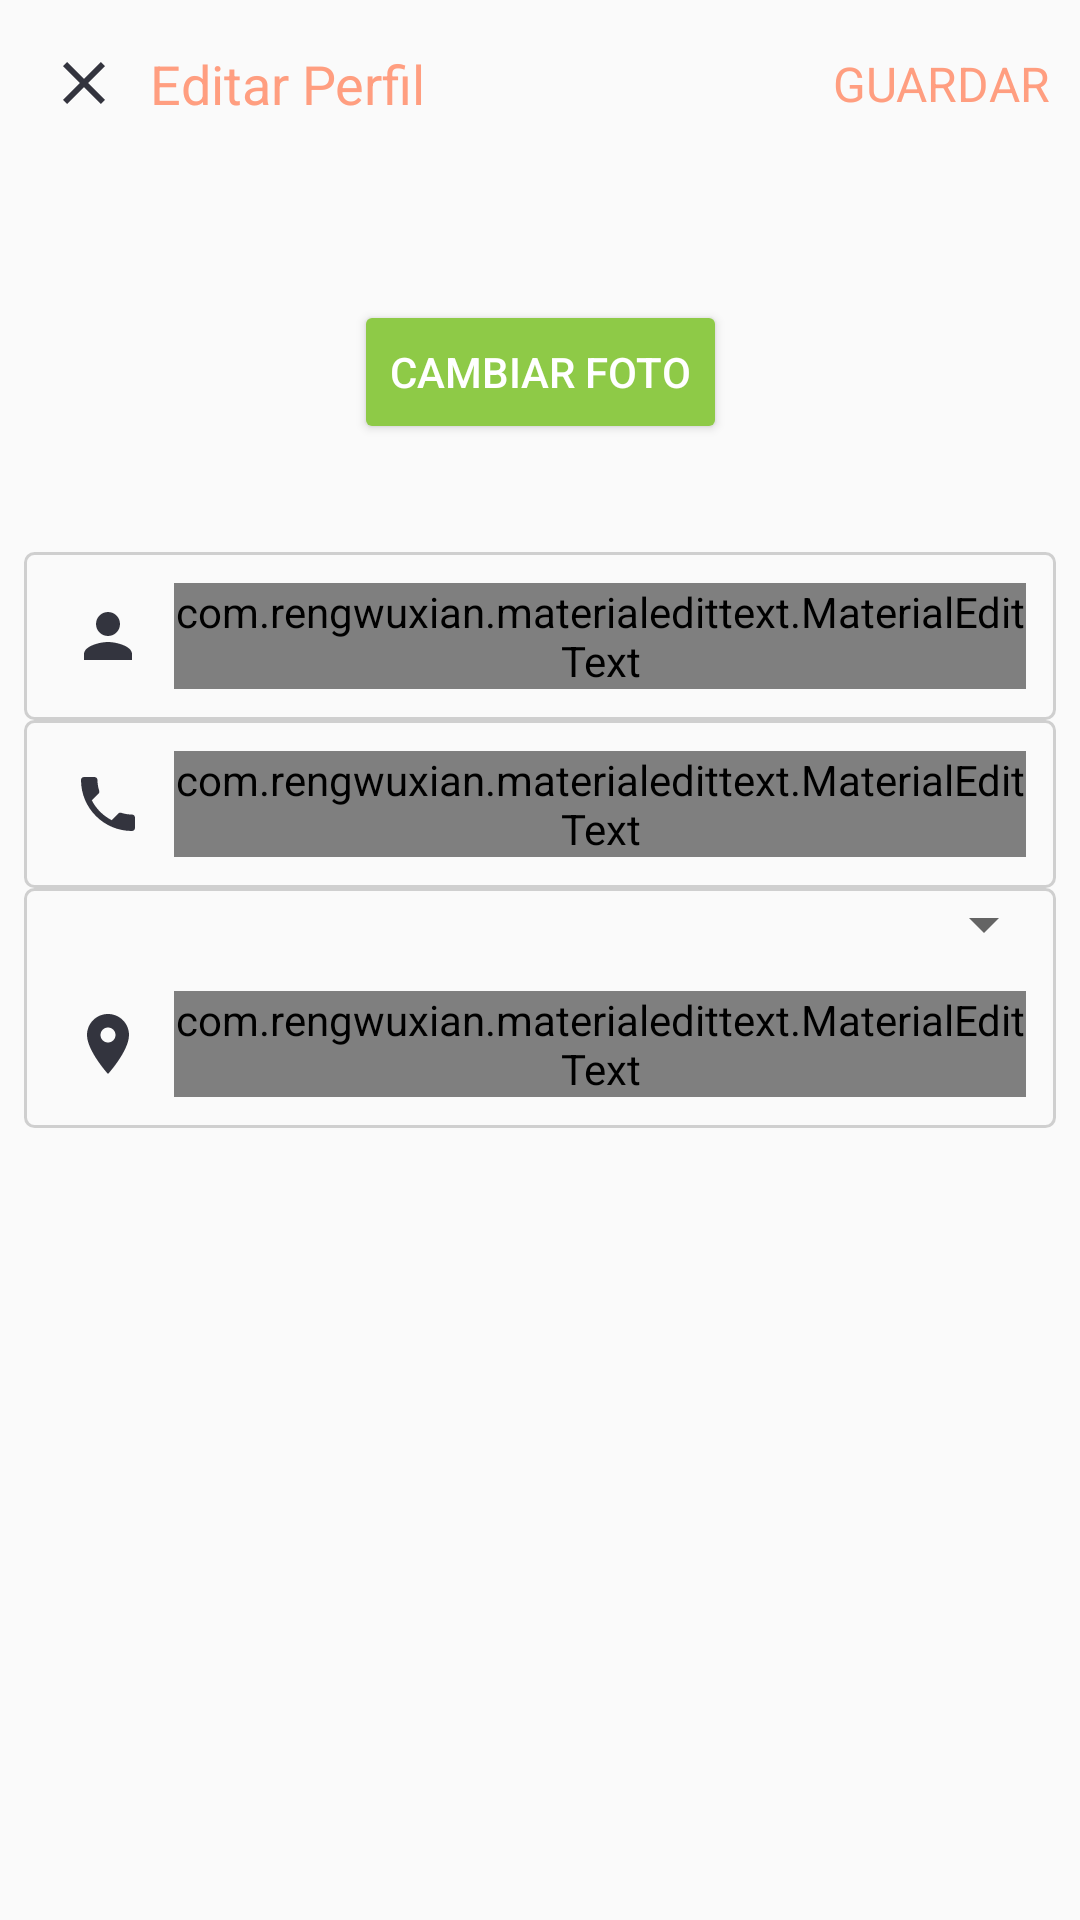

Locate icon controls on the screen. Image size 1080w x 1920h, boxes as (x1, y1, x2, y2).
close: (63, 62, 105, 104)
